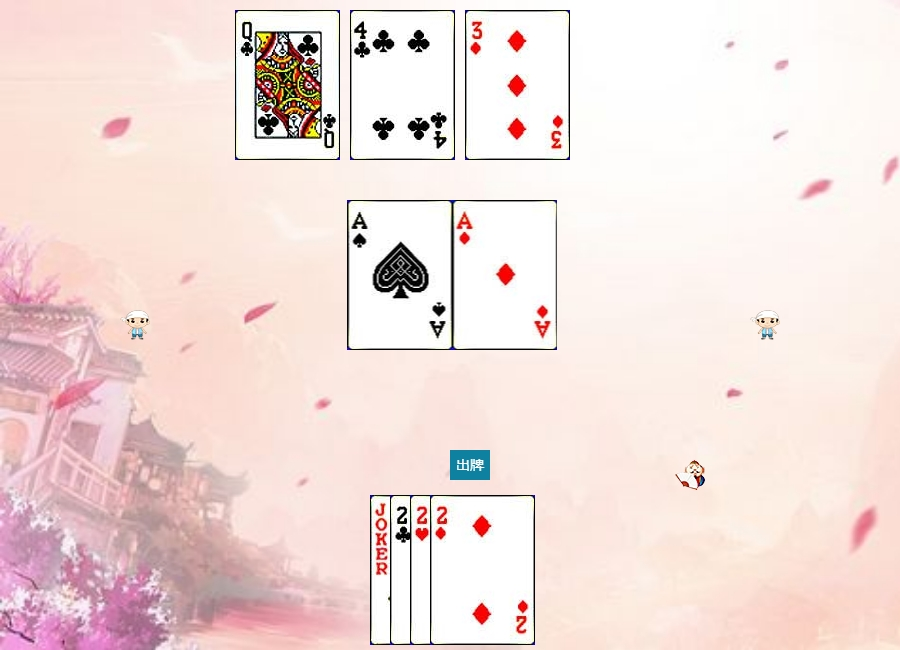12~2: (235, 10, 340, 160)
14~1: (453, 200, 558, 350)
14~4: (348, 200, 453, 350)
15~1: (430, 495, 535, 645)
15~2: (390, 495, 495, 645)
15~3: (410, 495, 515, 645)
18~4: (370, 495, 475, 645)
3~1: (465, 10, 570, 160)
4~2: (350, 10, 455, 160)
